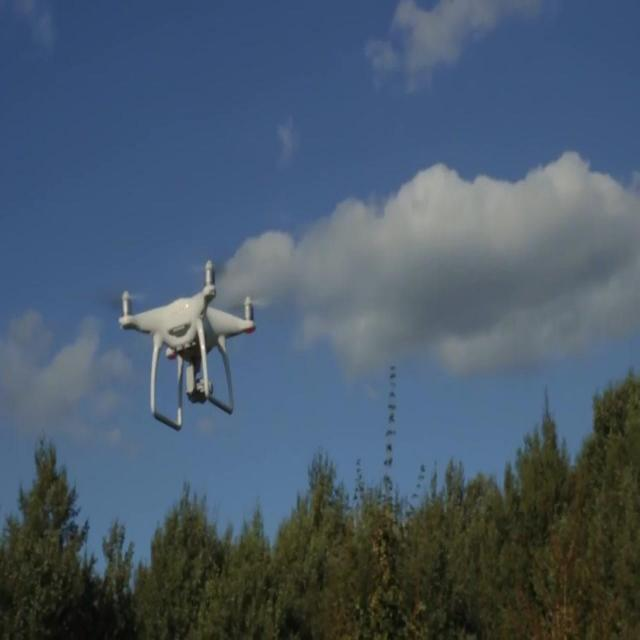UAV: (106, 260, 270, 432)
